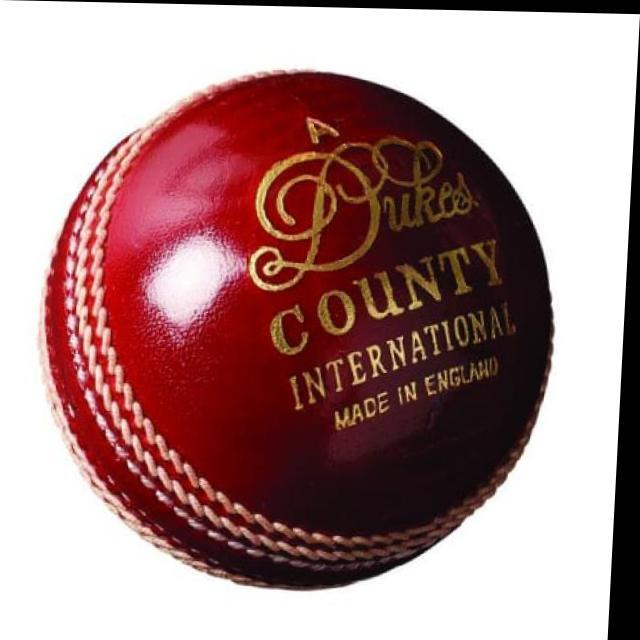cricket ball: (40, 68, 558, 591)
